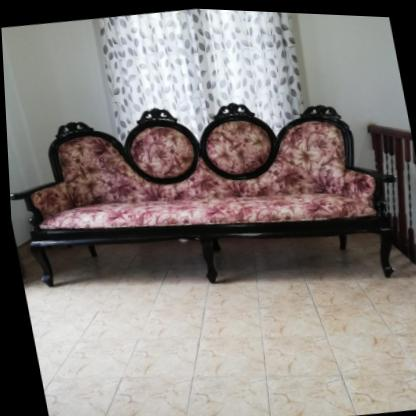Ceramic floor: (34, 298, 416, 416)
Curtains: (92, 7, 306, 149)
Sofa: (3, 69, 413, 323)
